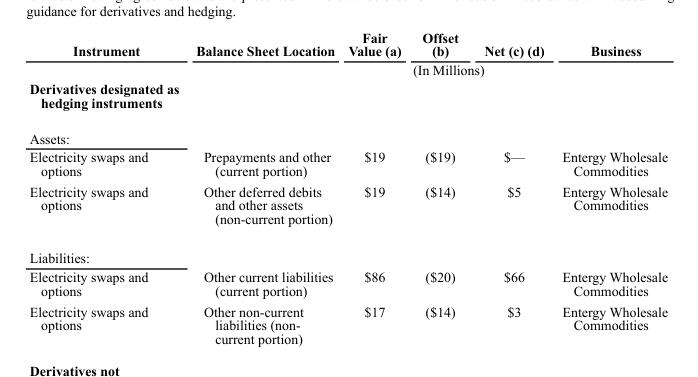table: (28, 29, 667, 346)
table column: (171, 29, 340, 346), (28, 29, 171, 346), (552, 29, 667, 346), (470, 29, 552, 346), (340, 29, 411, 346), (411, 29, 470, 346)
table column header: (28, 29, 667, 79)
table projected row header: (28, 79, 667, 120), (28, 238, 667, 267), (28, 120, 667, 147)
table row: (28, 180, 667, 238), (28, 300, 667, 346), (28, 79, 667, 120), (28, 147, 667, 180), (28, 267, 667, 300), (28, 29, 667, 60), (28, 238, 667, 267), (28, 120, 667, 147), (28, 60, 667, 79)
table spanning cell: (171, 29, 340, 79), (28, 29, 171, 79), (552, 29, 667, 79), (340, 60, 552, 79)
